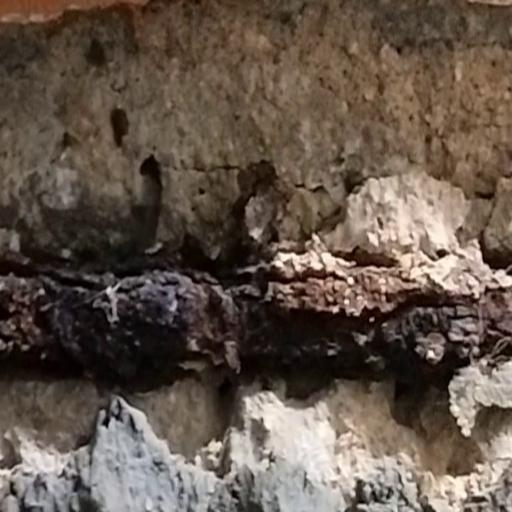spalling: (3, 7, 512, 480)
